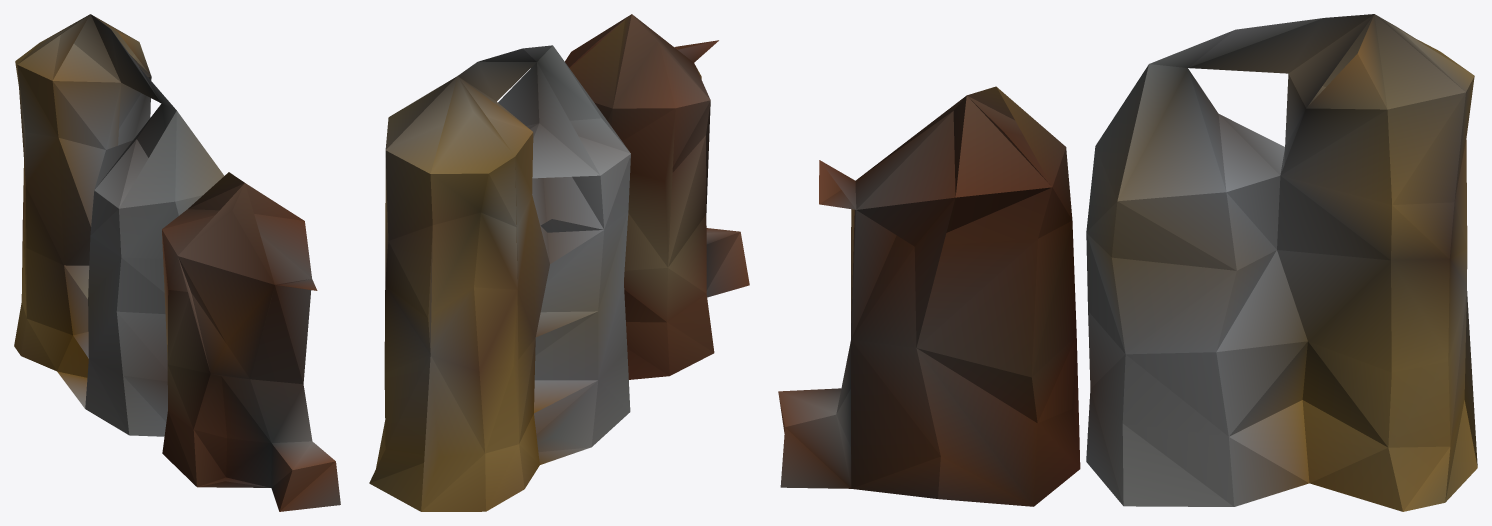
The model's file is silos.glb.
3 views of the same model, side by side, from view 1: azimuth 30°, elevation 25°; view 2: azimuth 150°, elevation 25°; view 3: azimuth 270°, elevation 25° (orthographic). The views are drawn at different scales.
Visible parts, largest first — view 1: silos-far; view 2: silos-far; view 3: silos-far.
Part boxes in pixels (box(x1,y1,x2,y2)): silos-far: box(14, 14, 340, 511); silos-far: box(369, 14, 749, 511); silos-far: box(778, 14, 1477, 511).
Size of the model in its own units: 0.2721 by 0.7266 by 0.9962.
